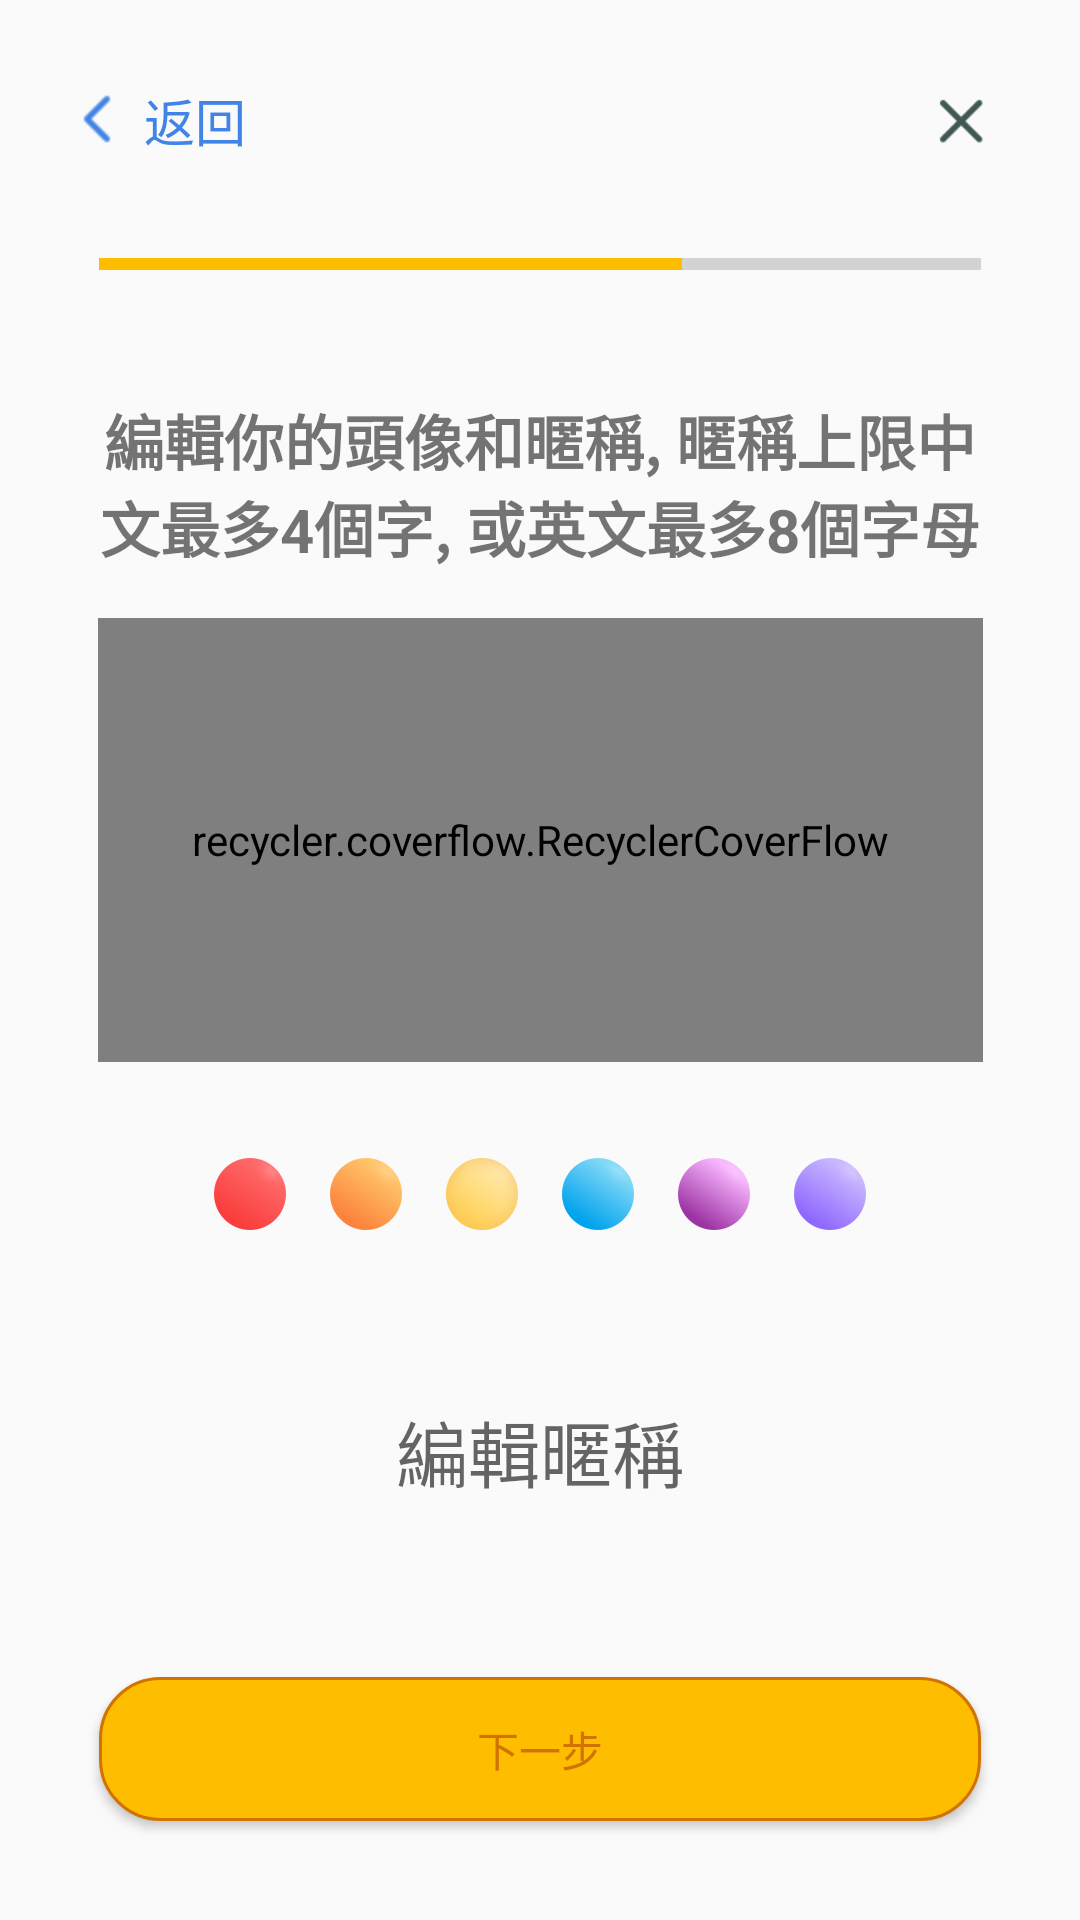

Where to tap for icons on this 1080px×1920px app screen, as point (x, y):
close: point (961, 121)
